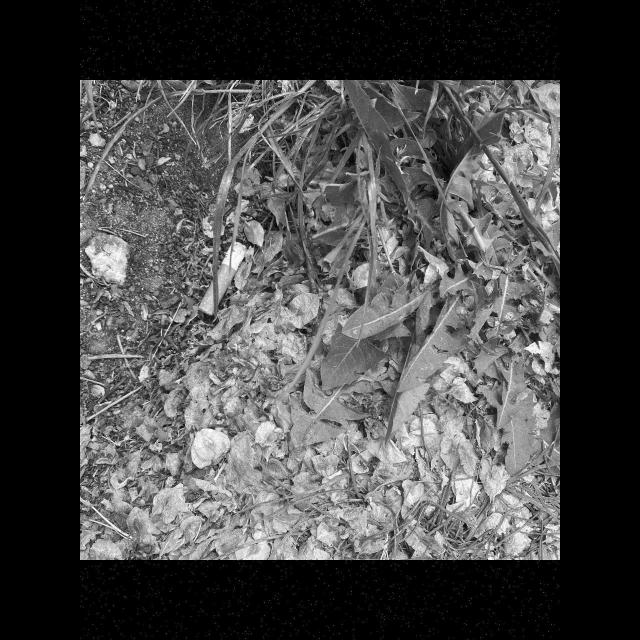cigarette: (198, 240, 248, 316)
